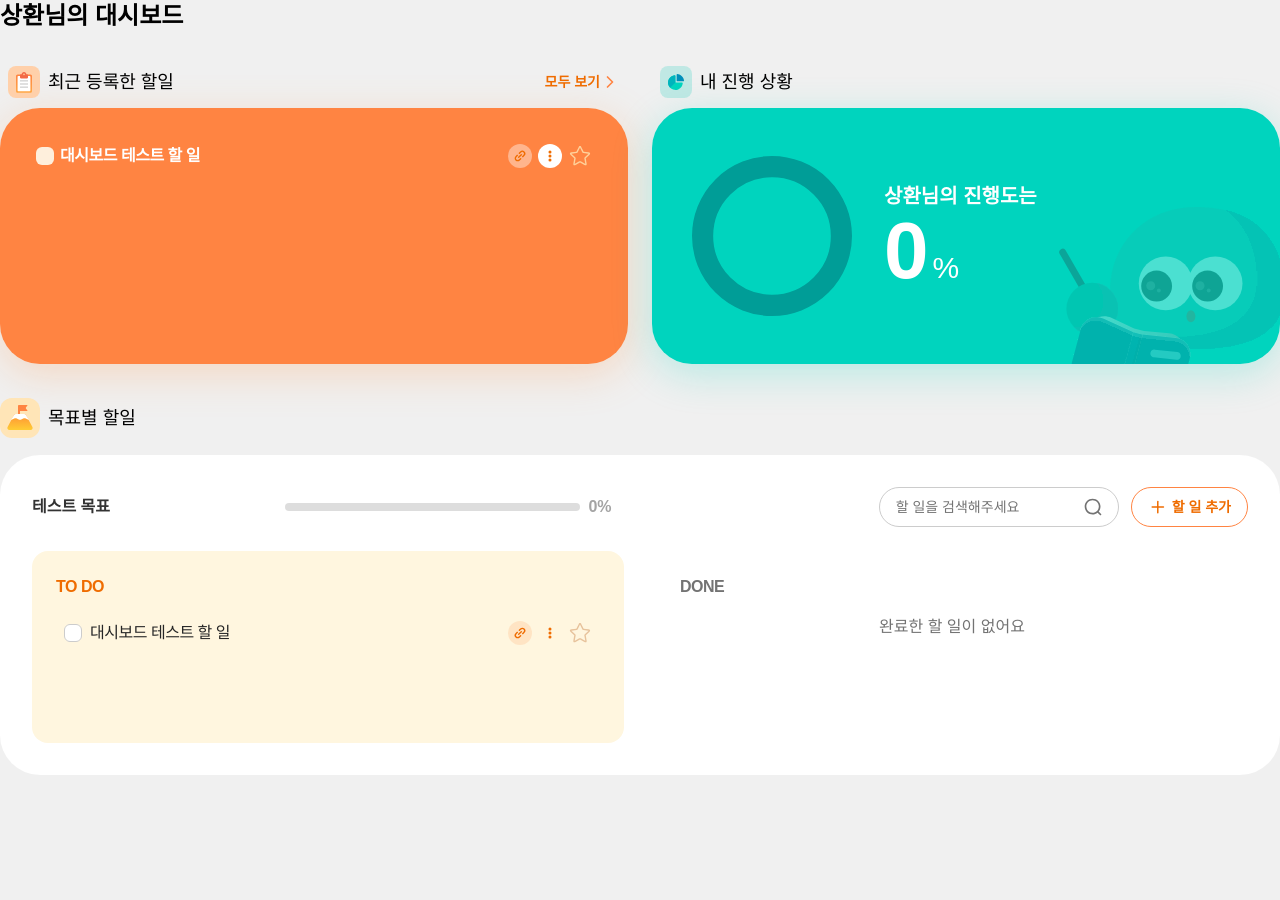
it: 대시보드 공용 기능 연결 › 케밥 삭제 메뉴에서 확인 후 모든 목록에서 항목을 제거한다
The image size is (1280, 900).
Expected: the button "할 일 추가" is shown, [1131, 487, 1248, 527]
Expected: the number of checkboxes is 2, [36, 147, 54, 165]; [64, 624, 82, 642]
Click the 1st button named "더보기".
click(550, 156)  # box [538, 144, 562, 168]
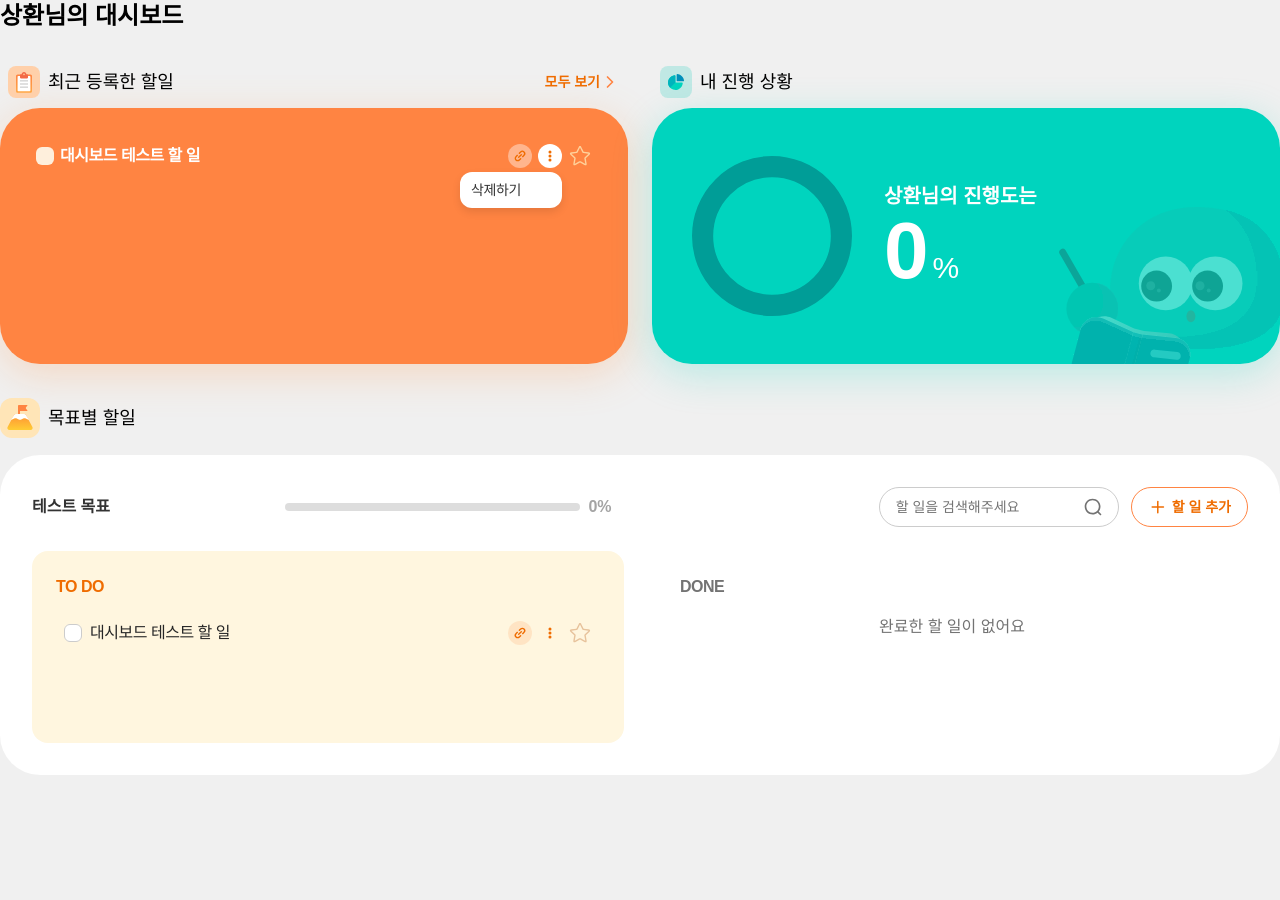
Click the menu item "삭제하기".
click(496, 190)  # box [471, 182, 521, 198]
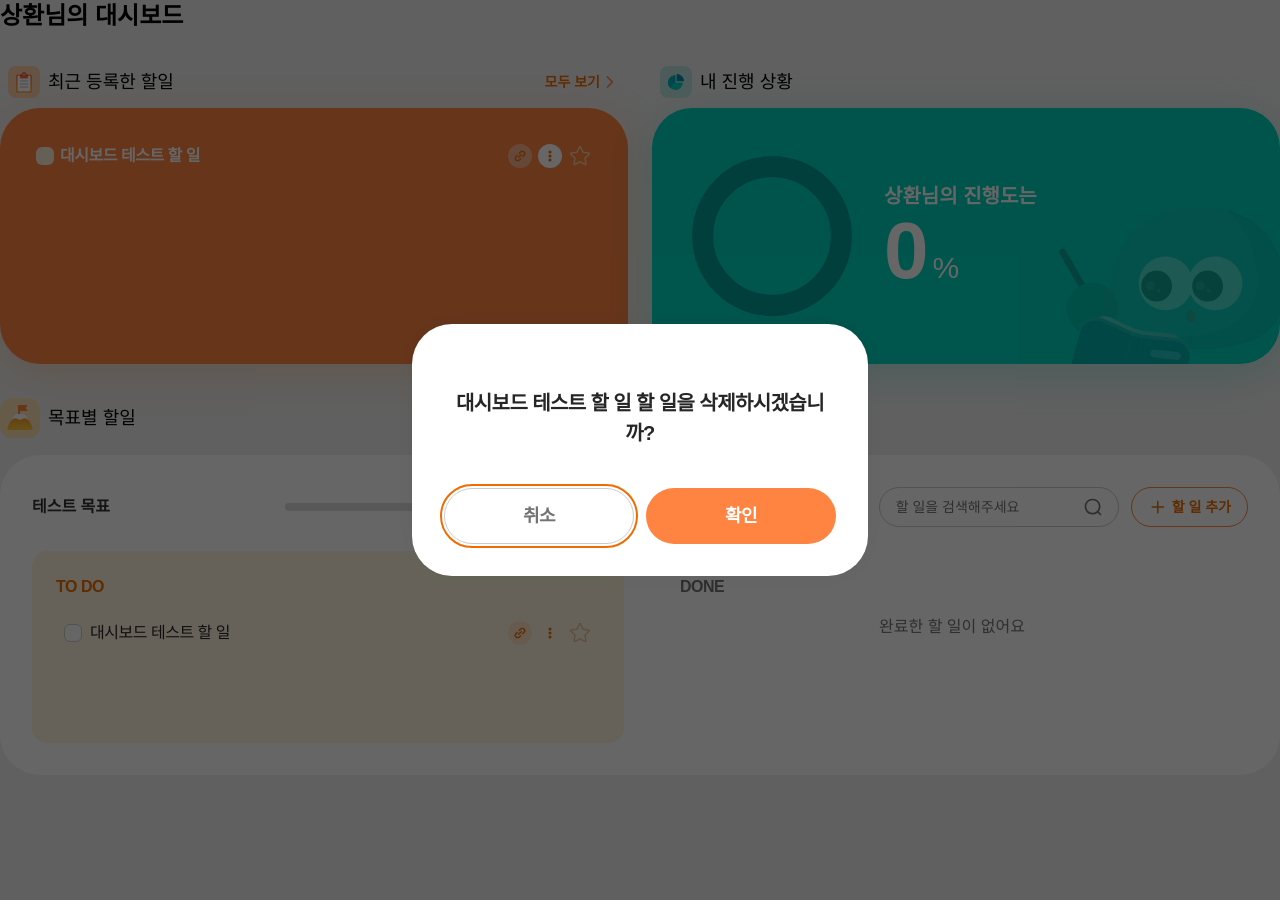
Click the button "확인".
click(741, 516)  # box [646, 488, 836, 544]
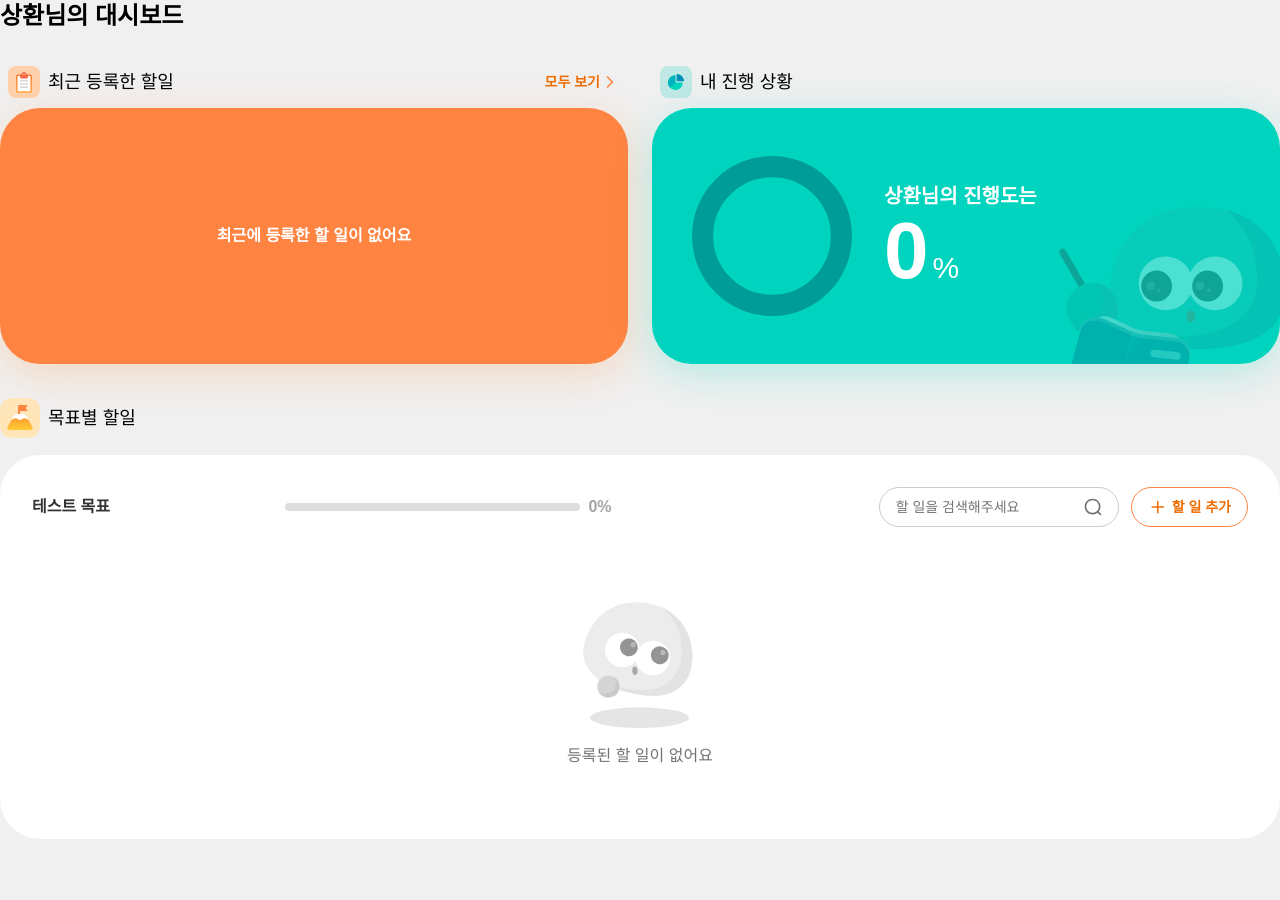
Expected: no buttons "대시보드 테스트 할 일" are shown
